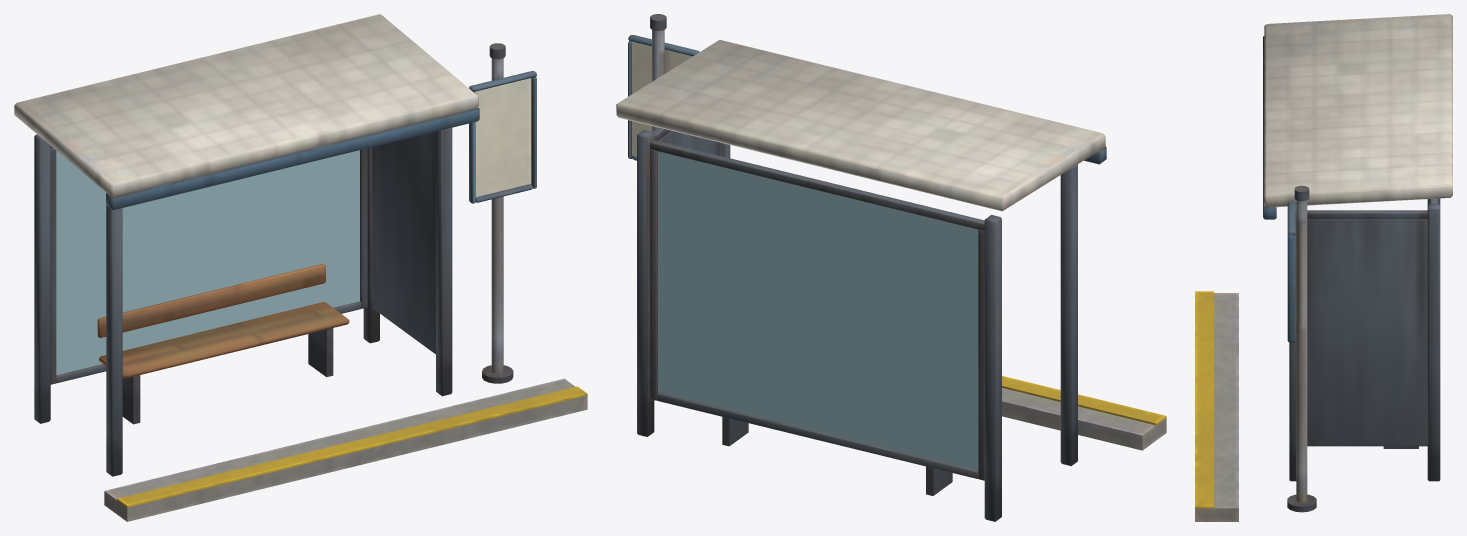
Rendered from bus_stop.glb.
3 renders of one model, left to right at view 1: azimuth 30°, elevation 25°; view 2: azimuth 150°, elevation 25°; view 3: azimuth 270°, elevation 25°, orthographic. The views are drawn at different scales.
Visible parts, largest first — view 1: bus_stop; view 2: bus_stop; view 3: bus_stop.
Part boxes in pixels (bbox=[...]): bus_stop: bbox=[14, 14, 587, 521]; bus_stop: bbox=[616, 14, 1166, 521]; bus_stop: bbox=[1195, 14, 1452, 521].
Size of the model in its own units: 4.05 by 2.78 by 2.05.
Materials: 9 (8 with a texture image).
